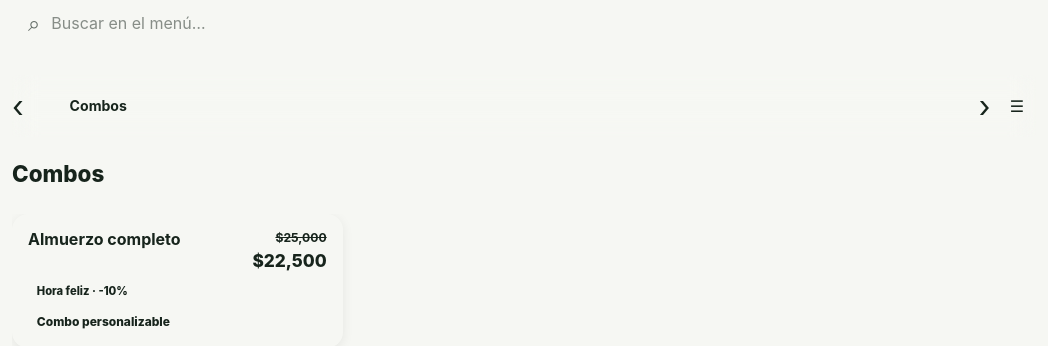
PublicMenuComponent combo details › opens a menu containing all categories from the category rail
This screenshot has width=1048, height=346.
Click the button with class "category-menu-toggle" at (1017, 106), box [998, 87, 1036, 125]
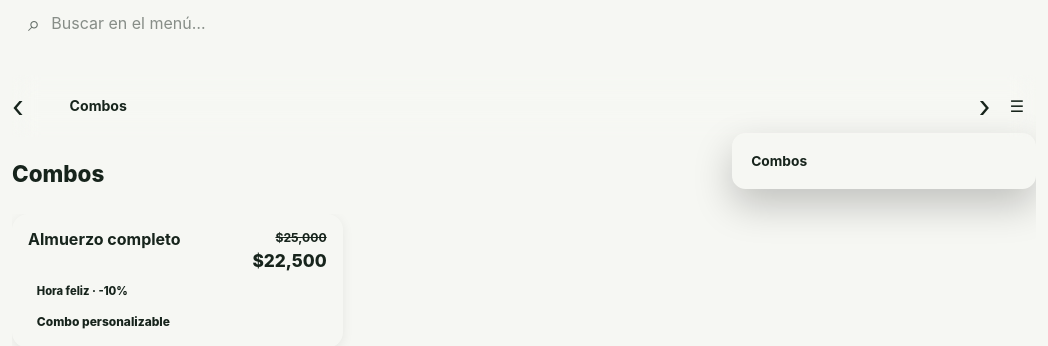
Expected: the button "Combos" is shown, [54, 87, 143, 125]
Now the number of menu items with class "categories-menu-item" is 1, box [738, 140, 1030, 182]
